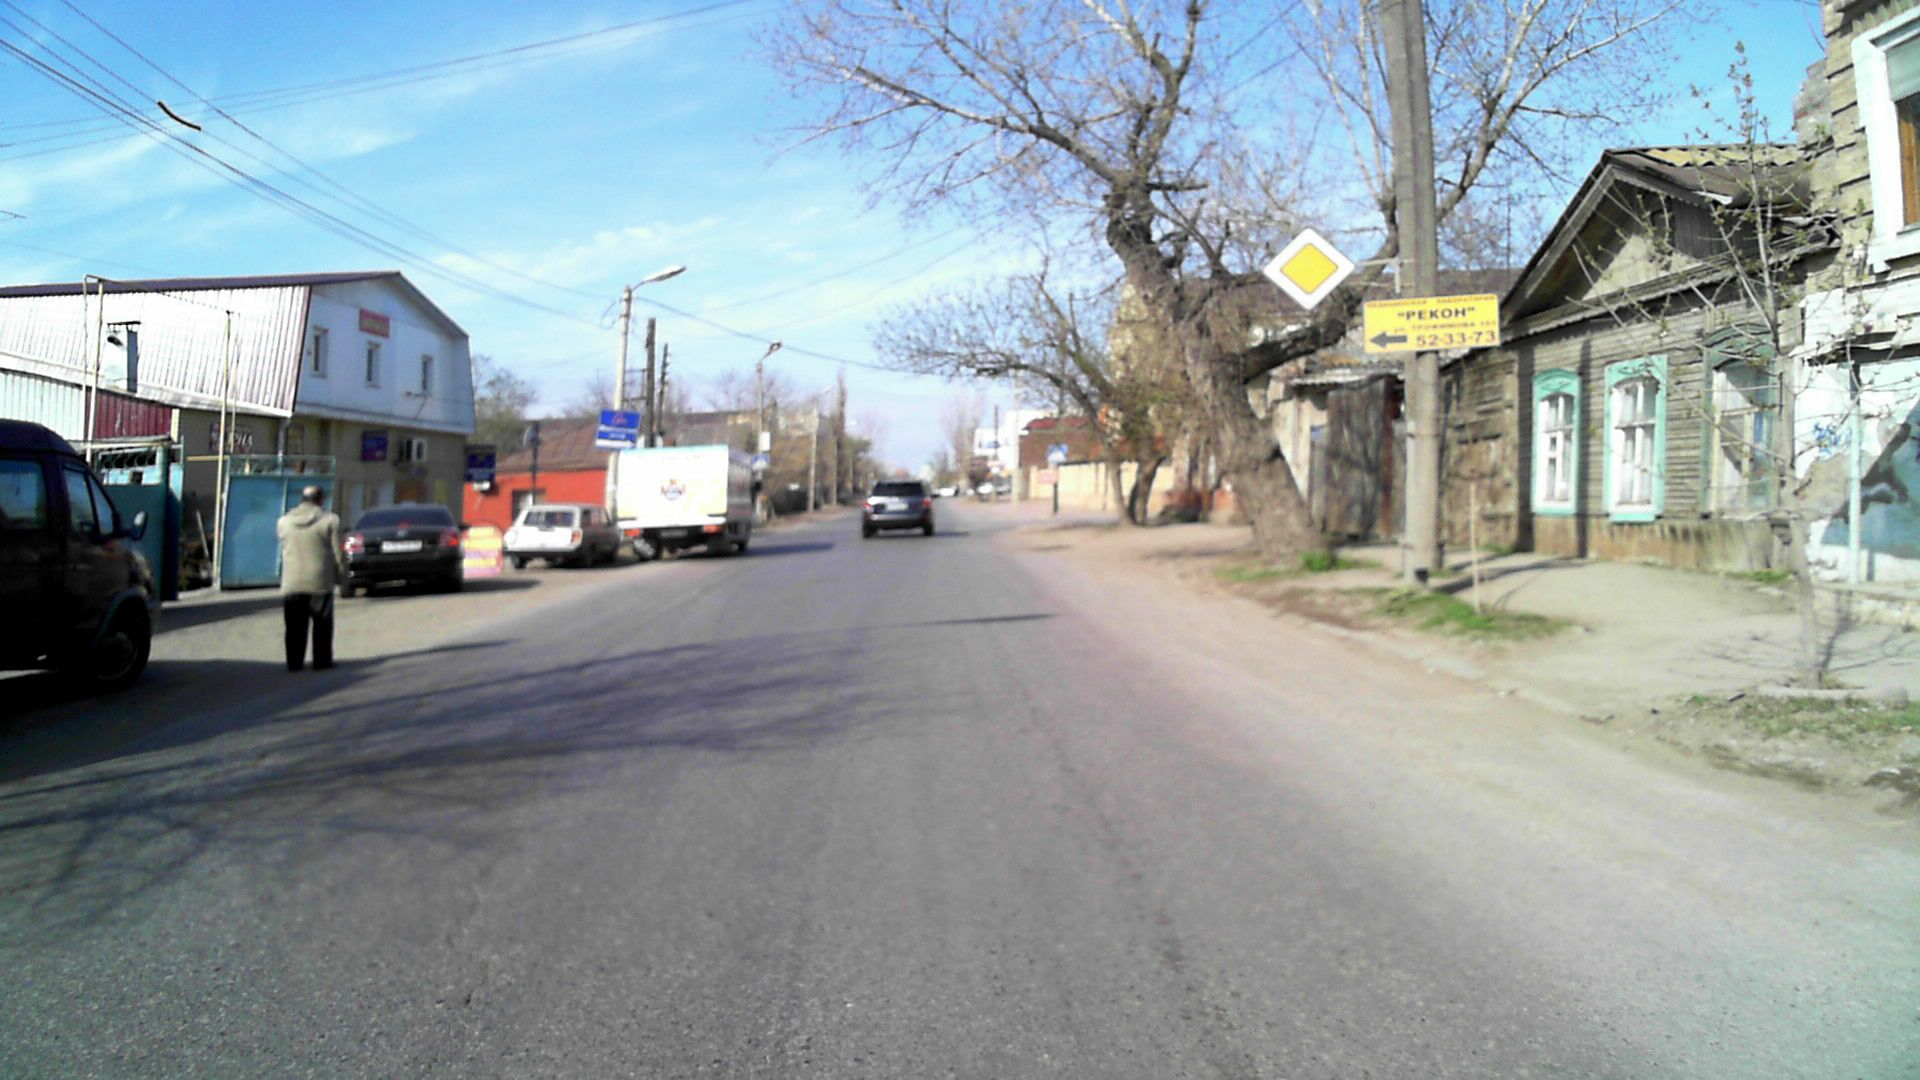Main Road: (1262, 228, 1356, 310)
